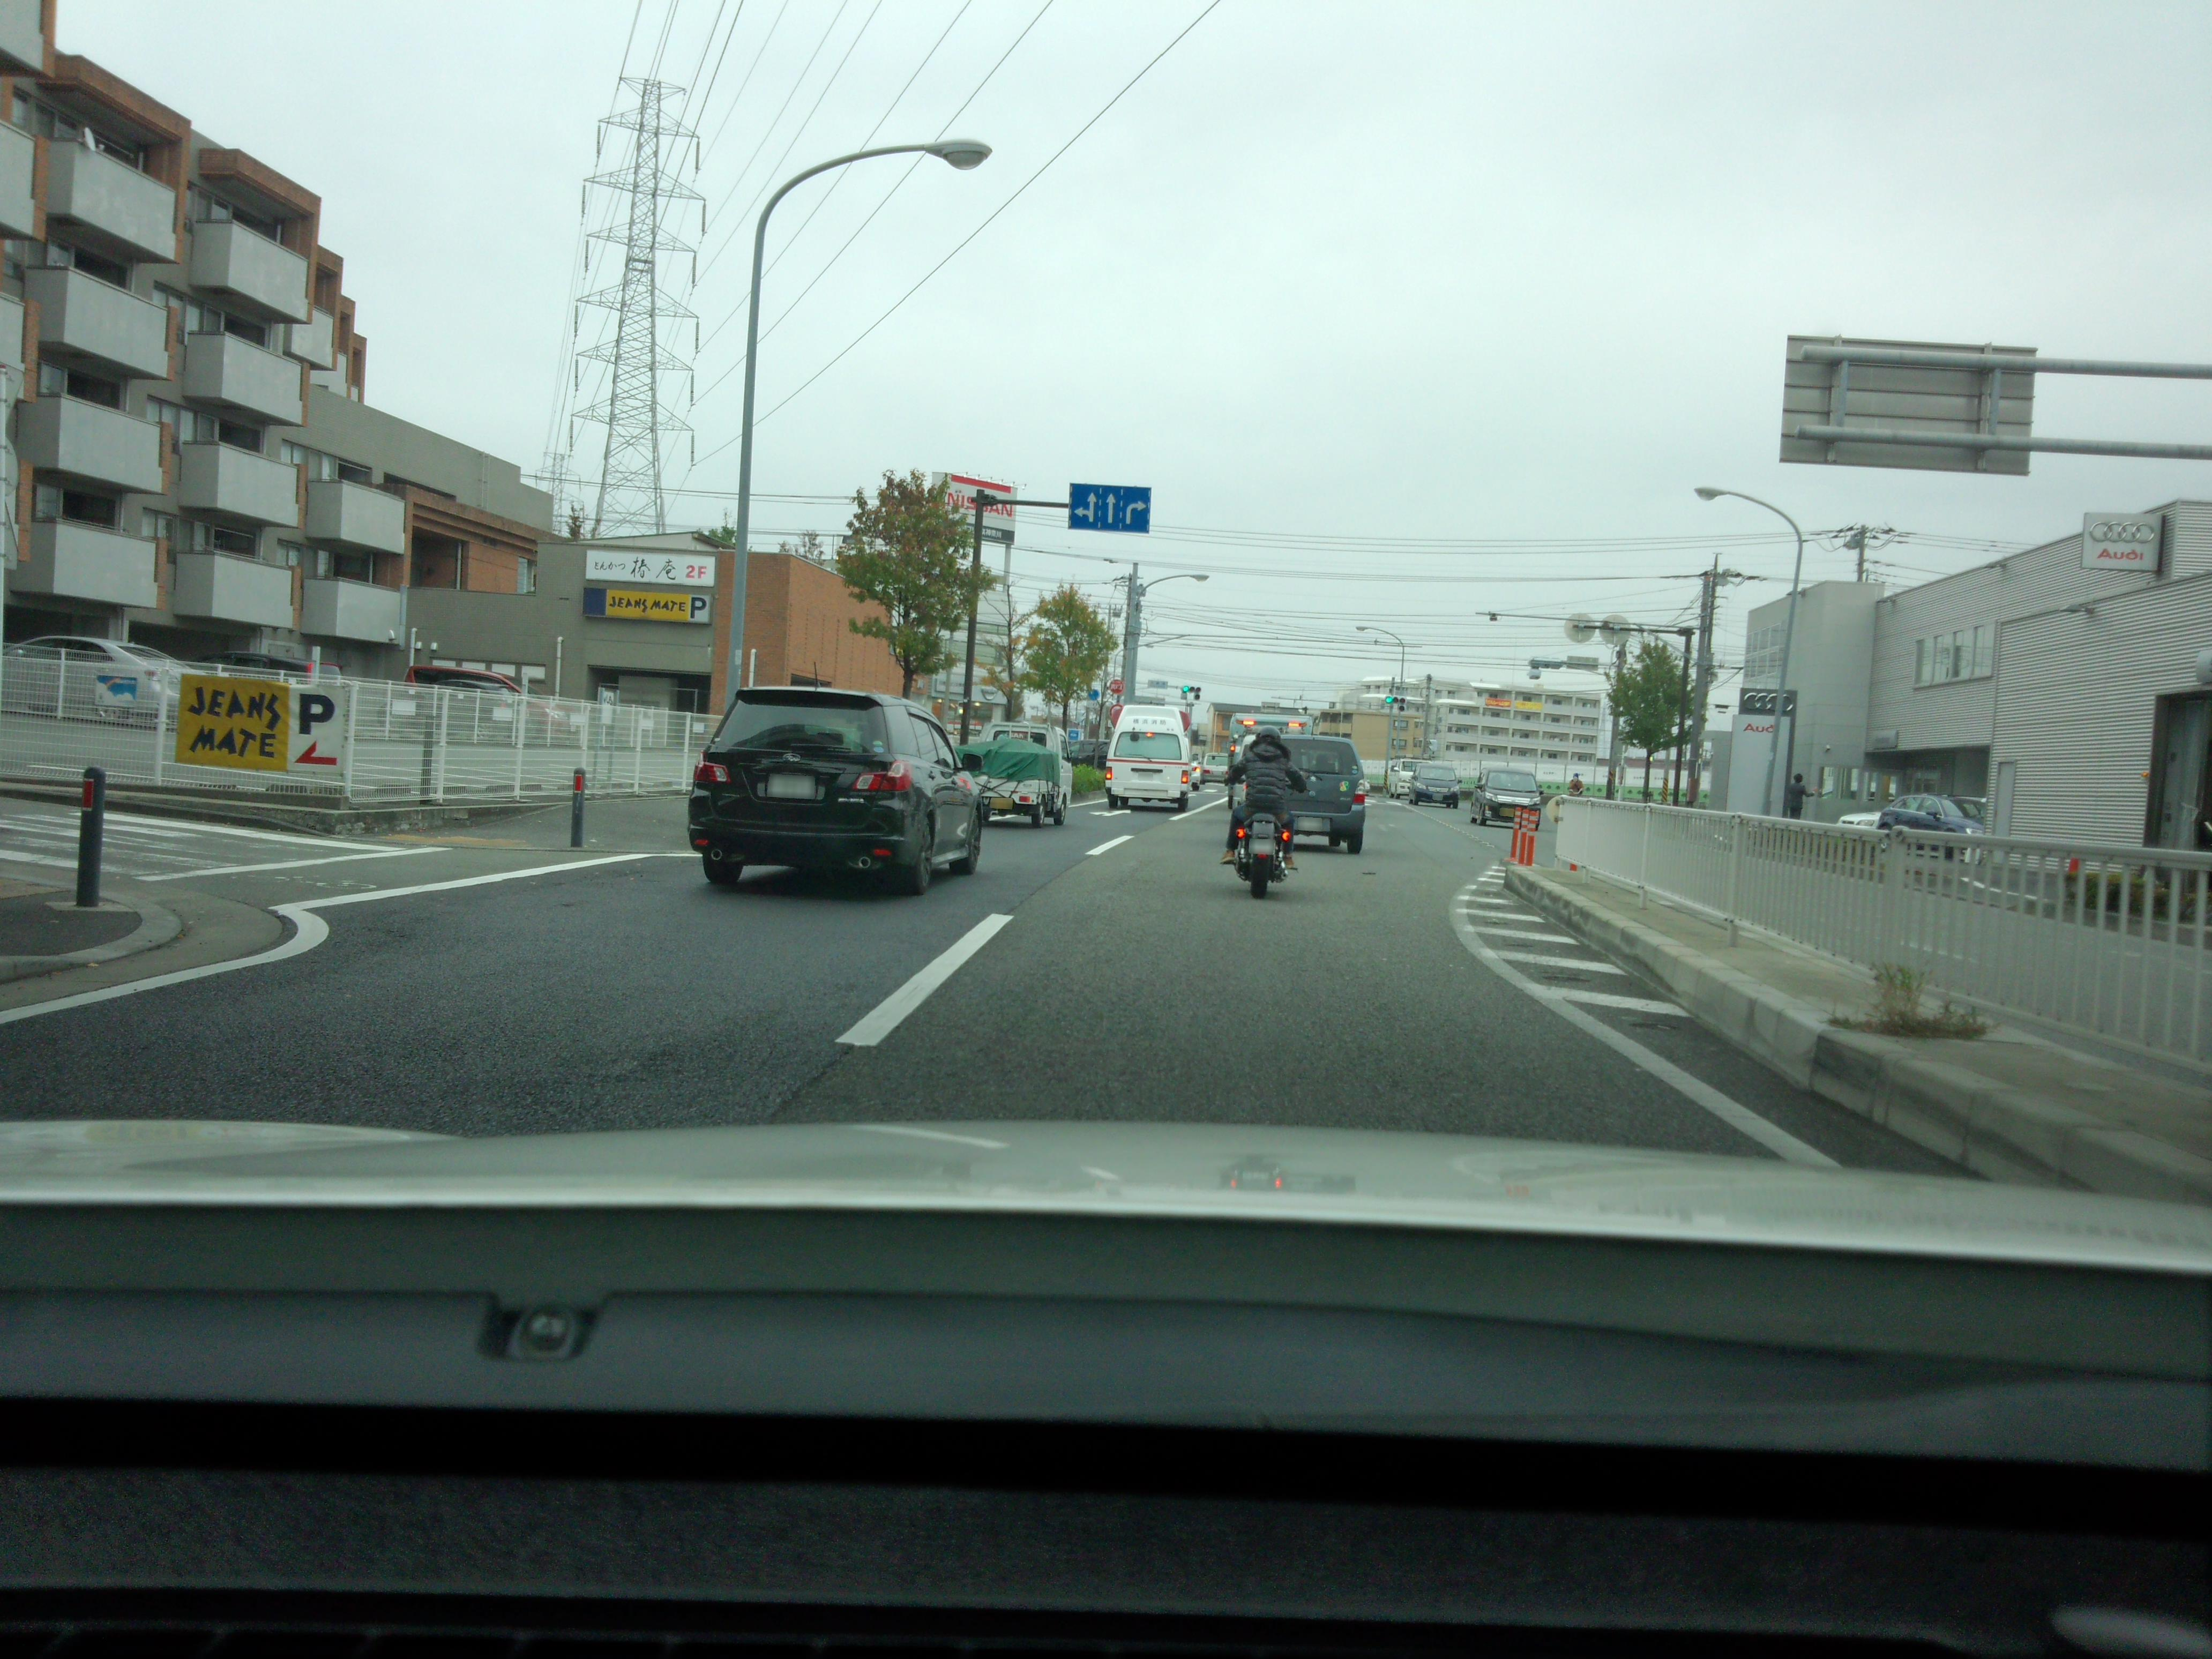vinyl banner: (165, 645, 352, 793)
